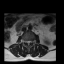CCS_normal: (27, 39, 29, 46)
LFS_normal: (31, 39, 32, 44)
LLS_stenosis: (29, 39, 31, 44)
RFS_stenosis: (24, 39, 25, 44)
RLS_stenosis: (25, 40, 27, 44)
